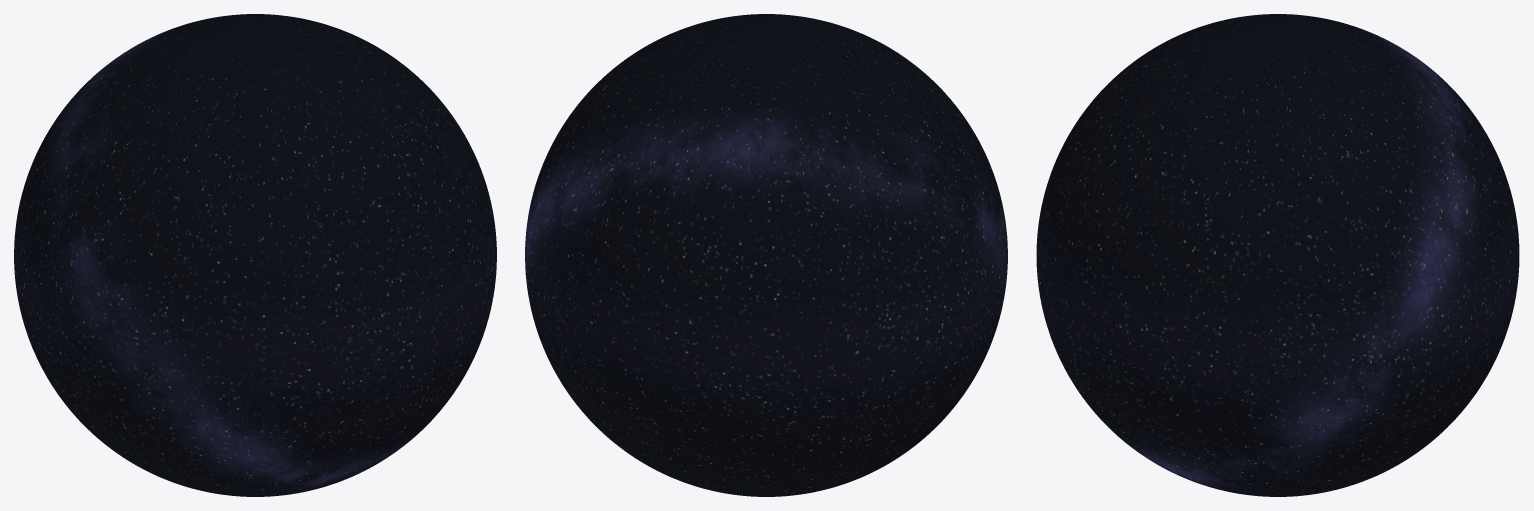
The model's file is starry_sky.glb.
3 views of the same model, side by side, from view 1: azimuth 30°, elevation 25°; view 2: azimuth 150°, elevation 25°; view 3: azimuth 270°, elevation 25° (orthographic).
Visible parts, largest first — view 1: Lumina_Starry_Sky; view 2: Lumina_Starry_Sky; view 3: Lumina_Starry_Sky.
Boxes of the visible parts, left/top/right/bottom form: Lumina_Starry_Sky: left=14, top=14, right=496, bottom=496; Lumina_Starry_Sky: left=525, top=14, right=1007, bottom=496; Lumina_Starry_Sky: left=1036, top=14, right=1519, bottom=496.
Size of the model in its own units: 600 by 600 by 600.
Materials: 1 (1 with a texture image).
